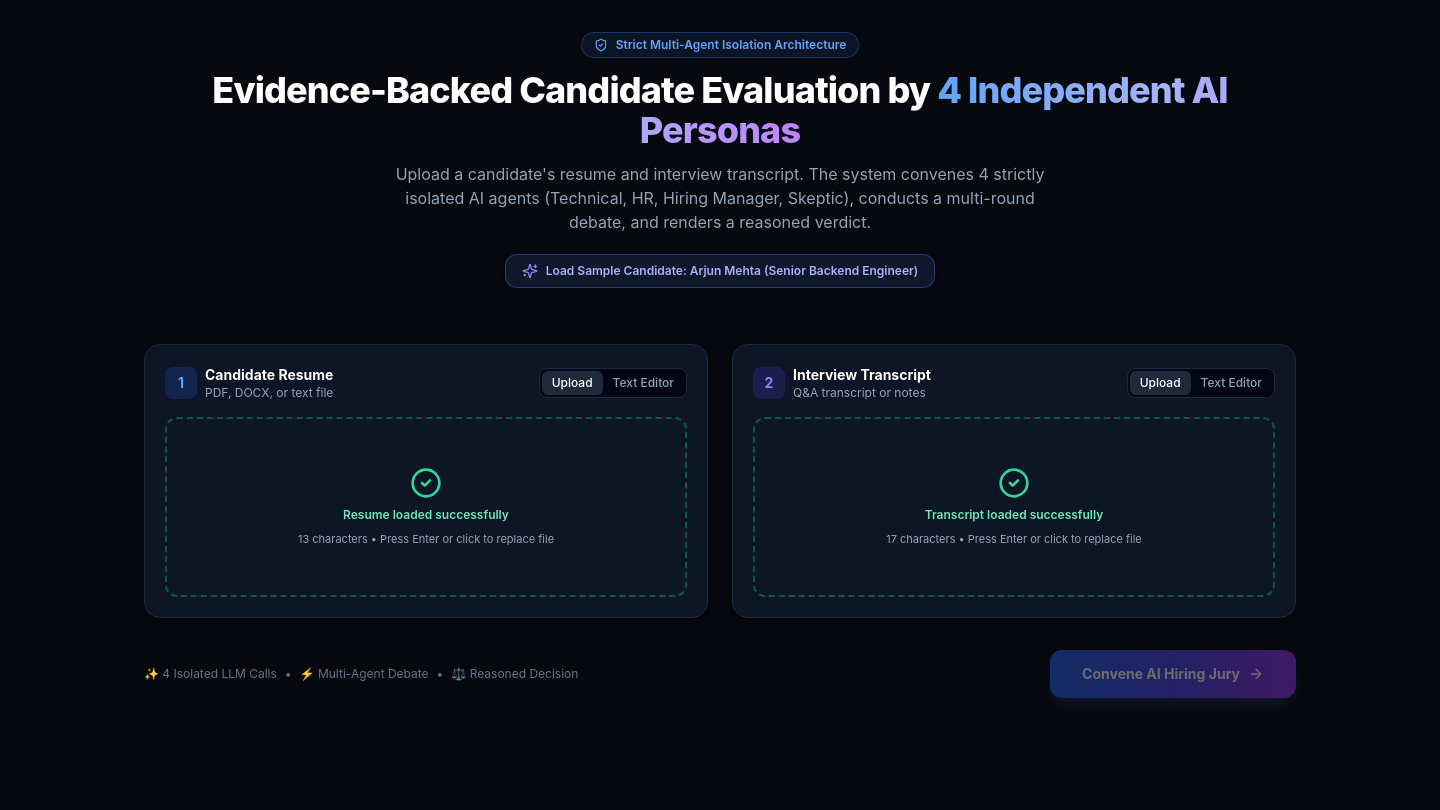
Test case: Component Accessibility & Phase 1 Verification Suite › FileUploadSection Component A11y › should allow tab switching to text editor with accessible labels
Switch to Text Editor tab
Click the tab "Text Editor" in the row of "Candidate Resume": (643, 383) x1=603 y1=371 x2=684 y2=395
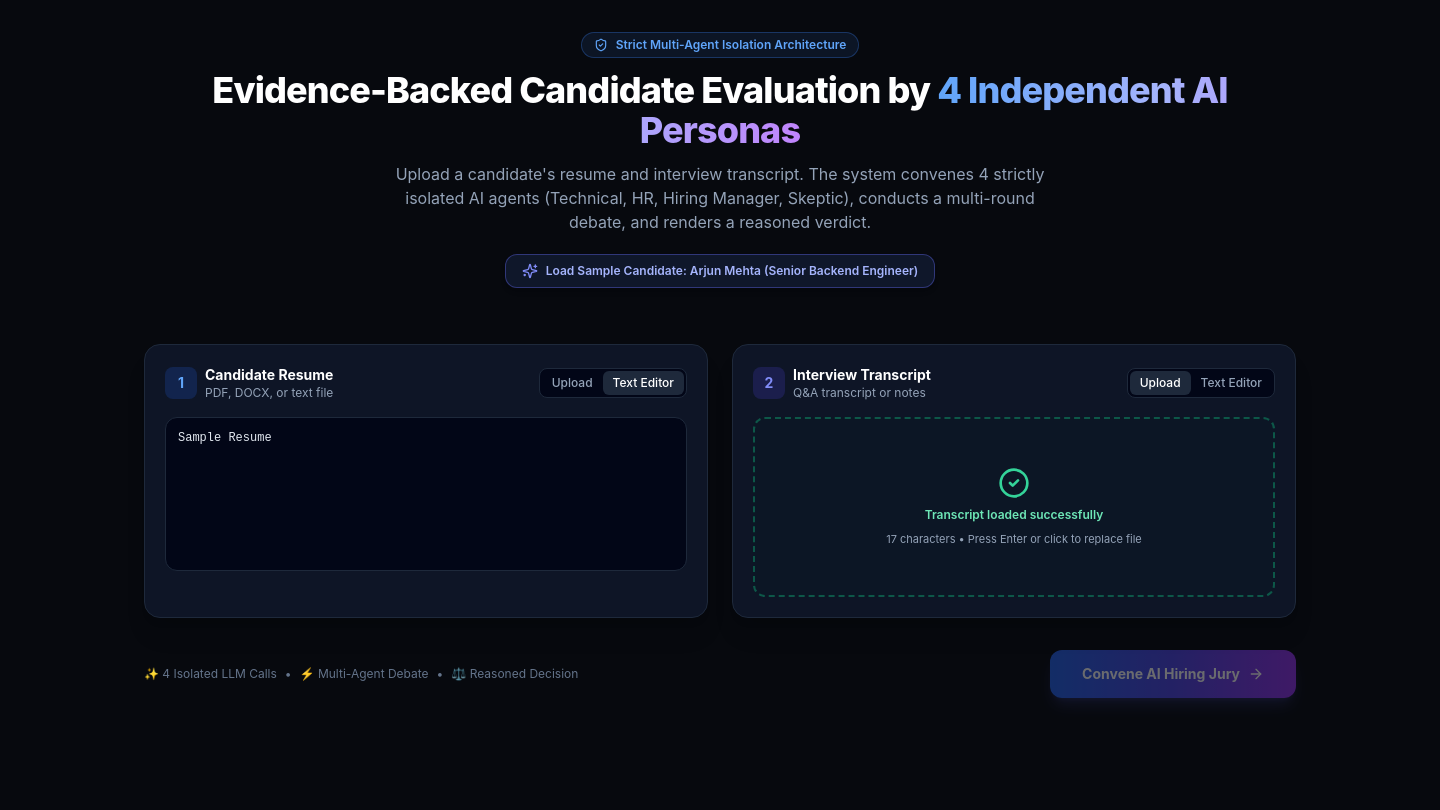
Result: the text box named "candidate resume text" is shown at x1=165 y1=417 x2=687 y2=571
